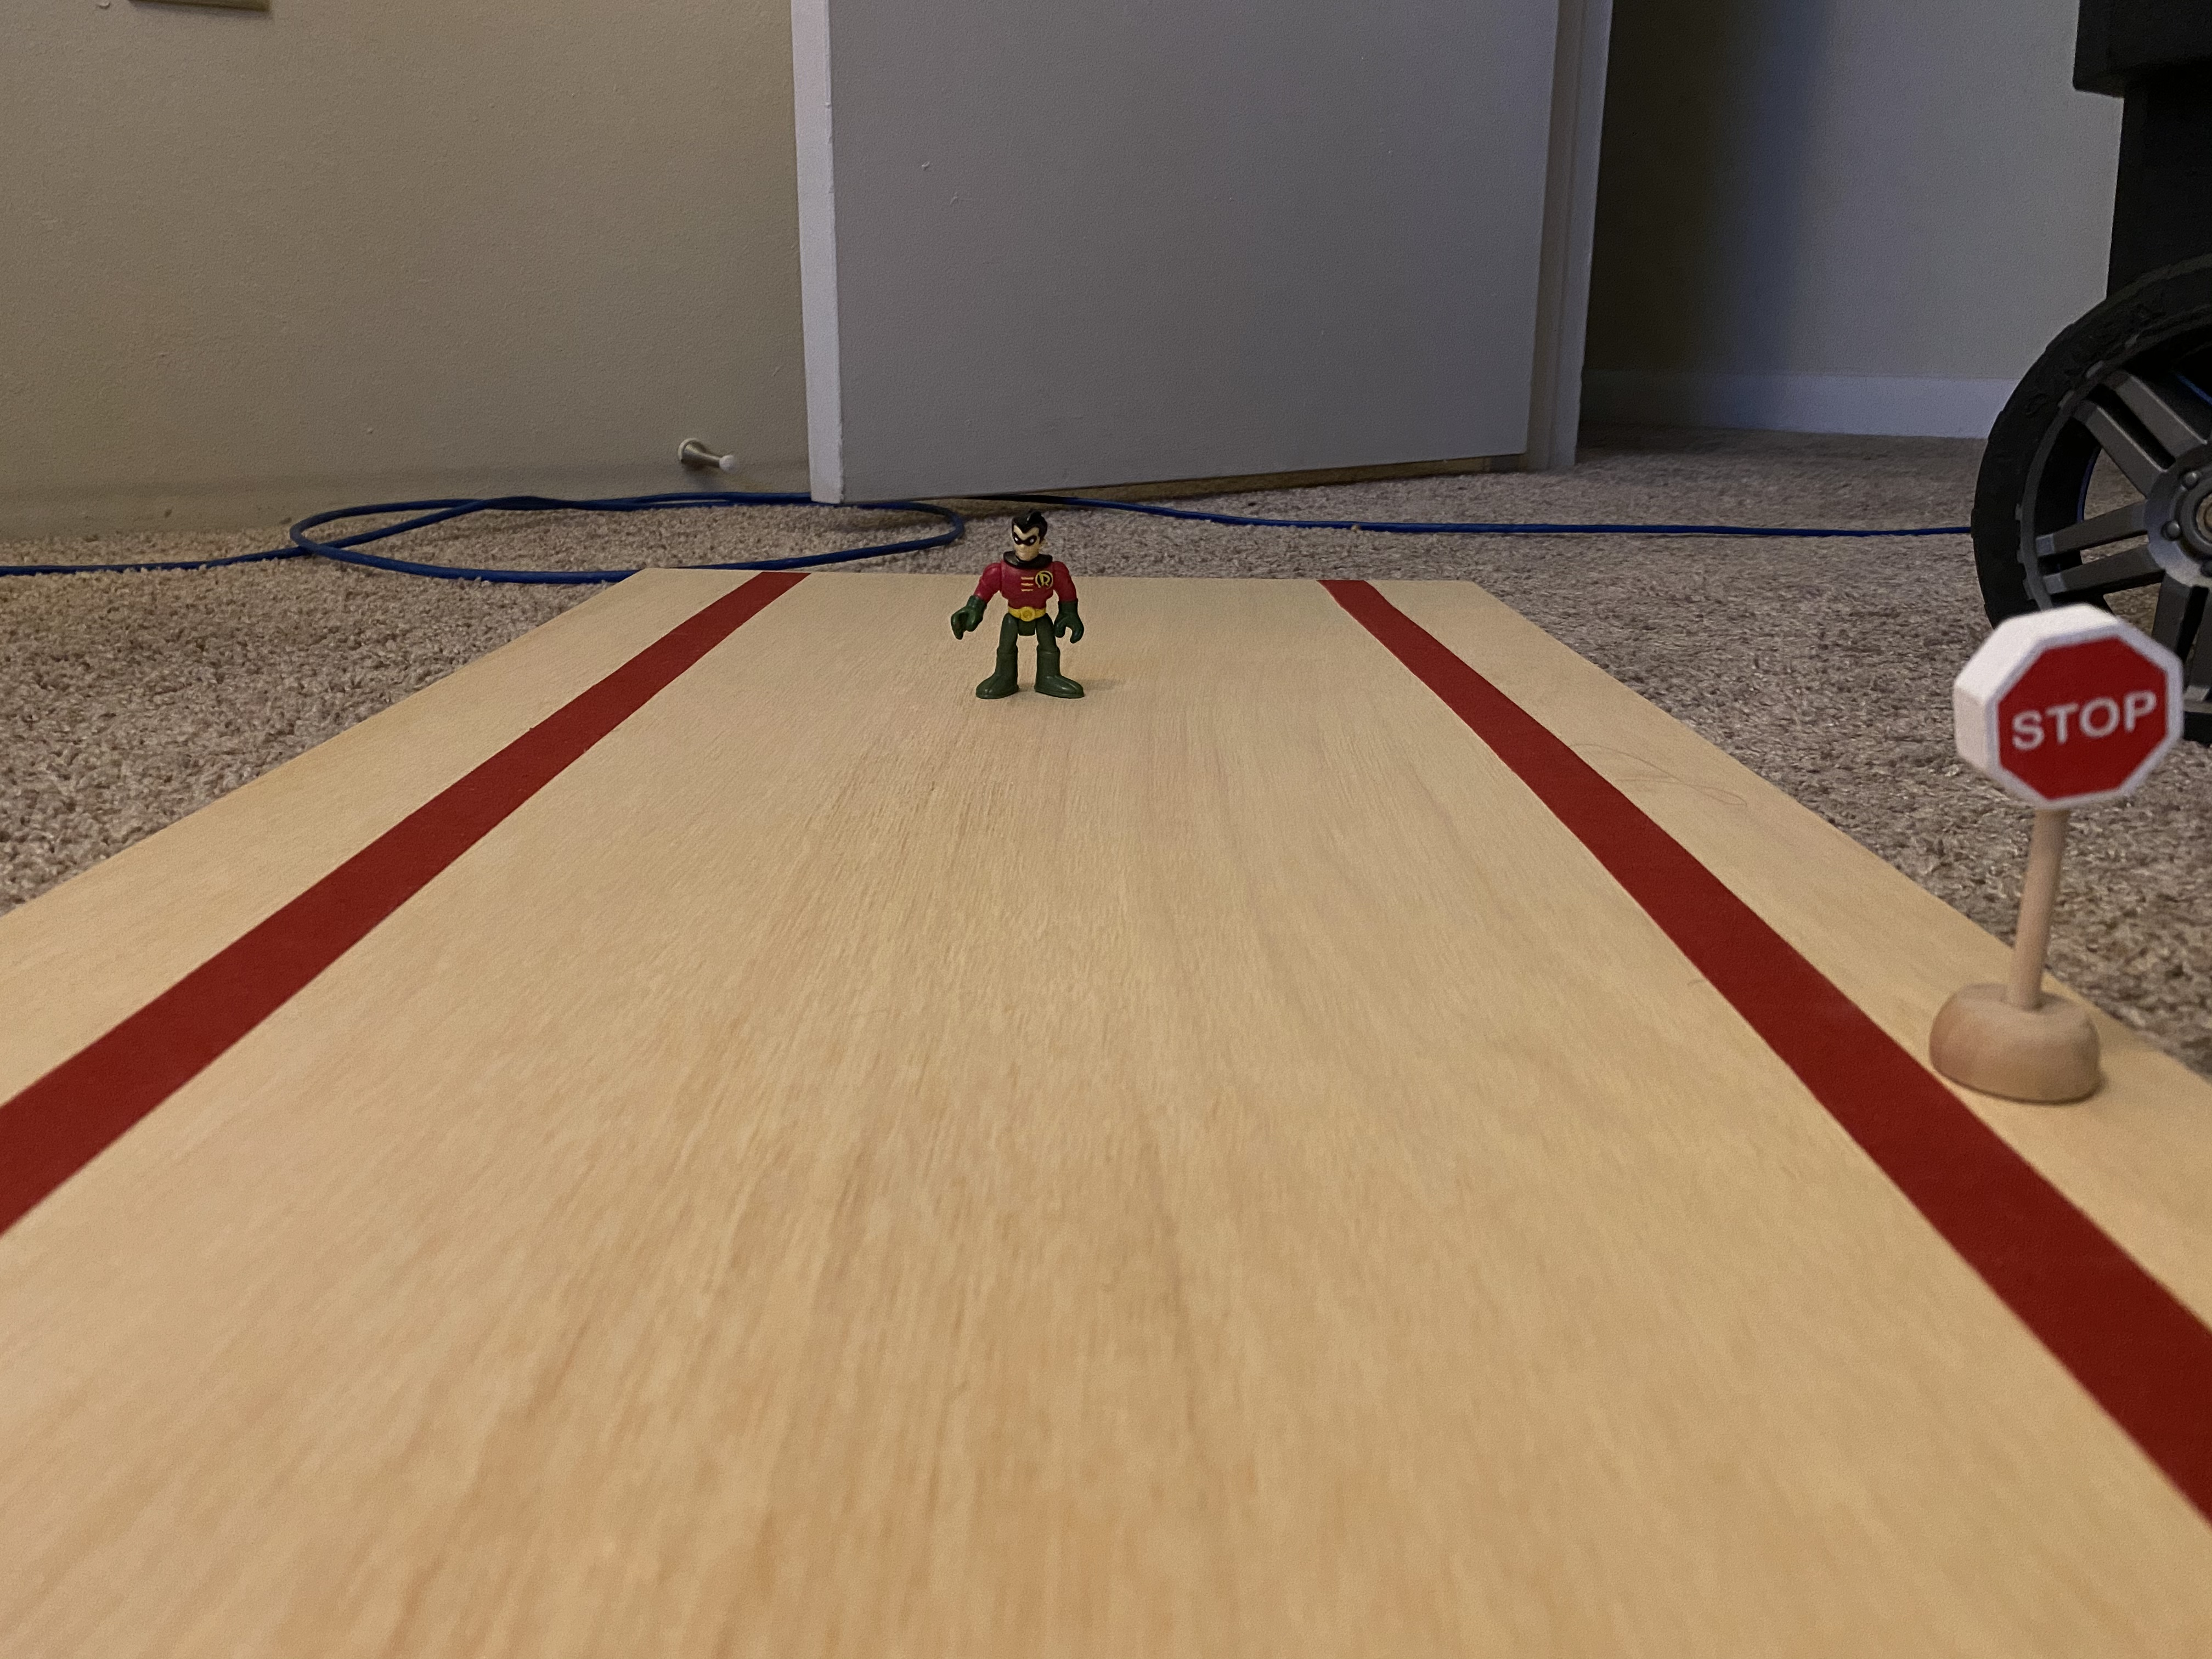Person: (951, 505, 1110, 701)
Stop Sign: (1956, 605, 2185, 811)
